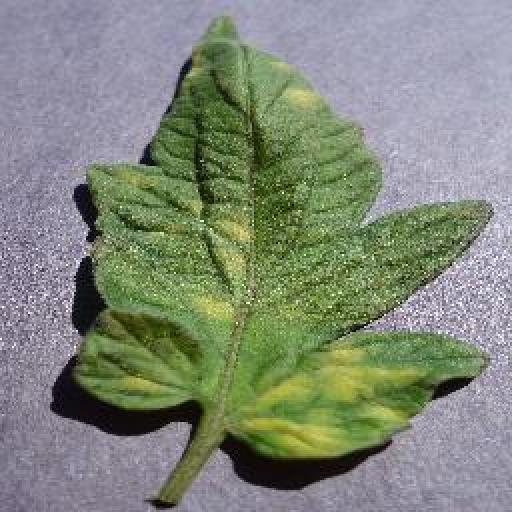Leaf Mold: (68, 10, 491, 462)
